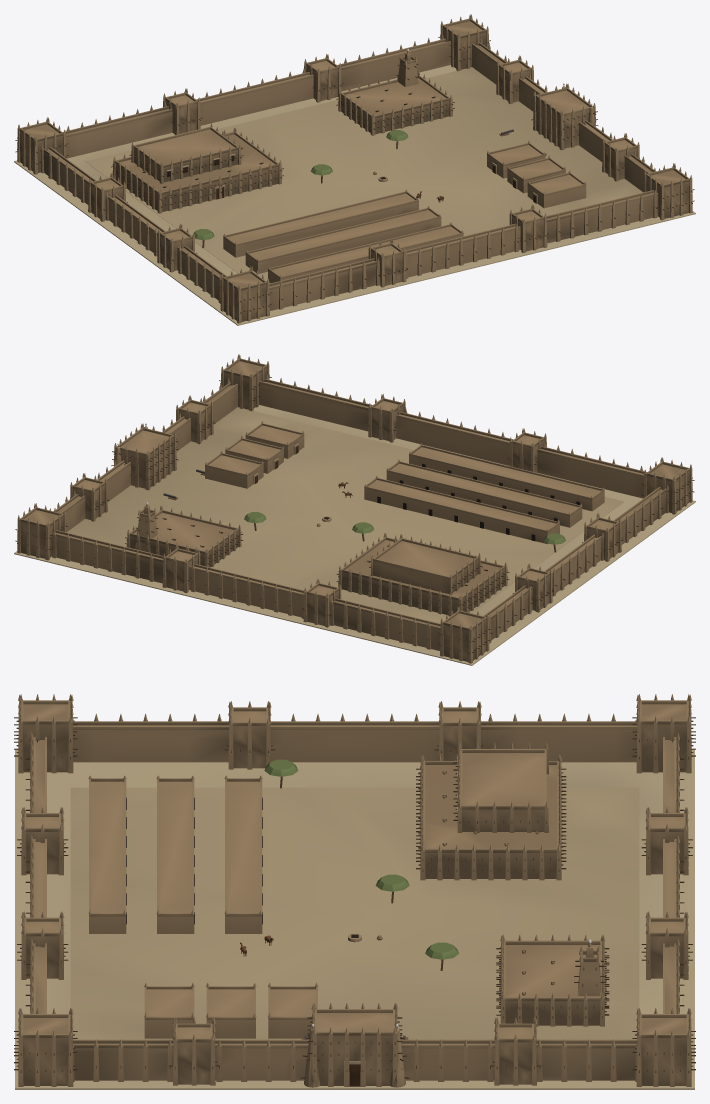
The model's file is kasbah.glb.
3 renders of one model, top to bottom at view 1: azimuth 30°, elevation 25°; view 2: azimuth 150°, elevation 25°; view 3: azimuth 270°, elevation 25°, orthographic. The views are drawn at different scales.
Visible parts, largest first — view 1: p1_walls, p0_ground, p2_buildings, p3_towers; view 2: p1_walls, p0_ground, p2_buildings, p3_towers; view 3: p0_ground, p1_walls, p2_buildings, p3_towers.
Part boxes in pixels (<box>): p1_walls: <box>15,14,694,323</box>; p0_ground: <box>14,65,695,325</box>; p2_buildings: <box>111,70,586,283</box>; p3_towers: <box>142,49,546,247</box>; p1_walls: <box>15,354,694,663</box>; p0_ground: <box>14,405,695,665</box>; p2_buildings: <box>125,421,604,616</box>; p3_towers: <box>135,469,565,585</box>; p0_ground: <box>15,749,694,1089</box>; p1_walls: <box>14,694,695,1087</box>; p2_buildings: <box>88,742,609,1038</box>; p3_towers: <box>240,759,608,1039</box>.
Bounding box in the file's own units: 130 × 13.75 × 110.
